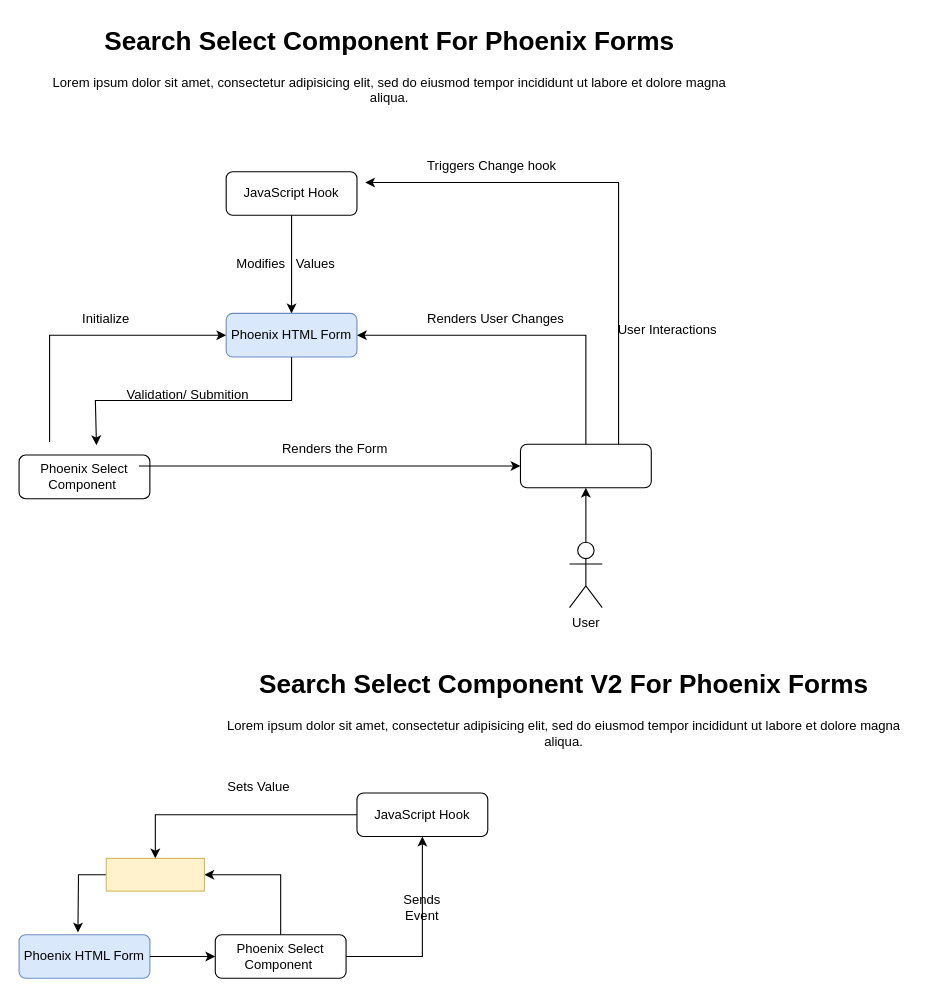
The diagram is 932 pixels wide and 997 high, and some of its shapes have lost their labels. Here are the shapes that lost their labels. From the top down, the centre of each, then its label:
At pixel 585 465: "Browser".
At pixel 154 874: "Input tag".
